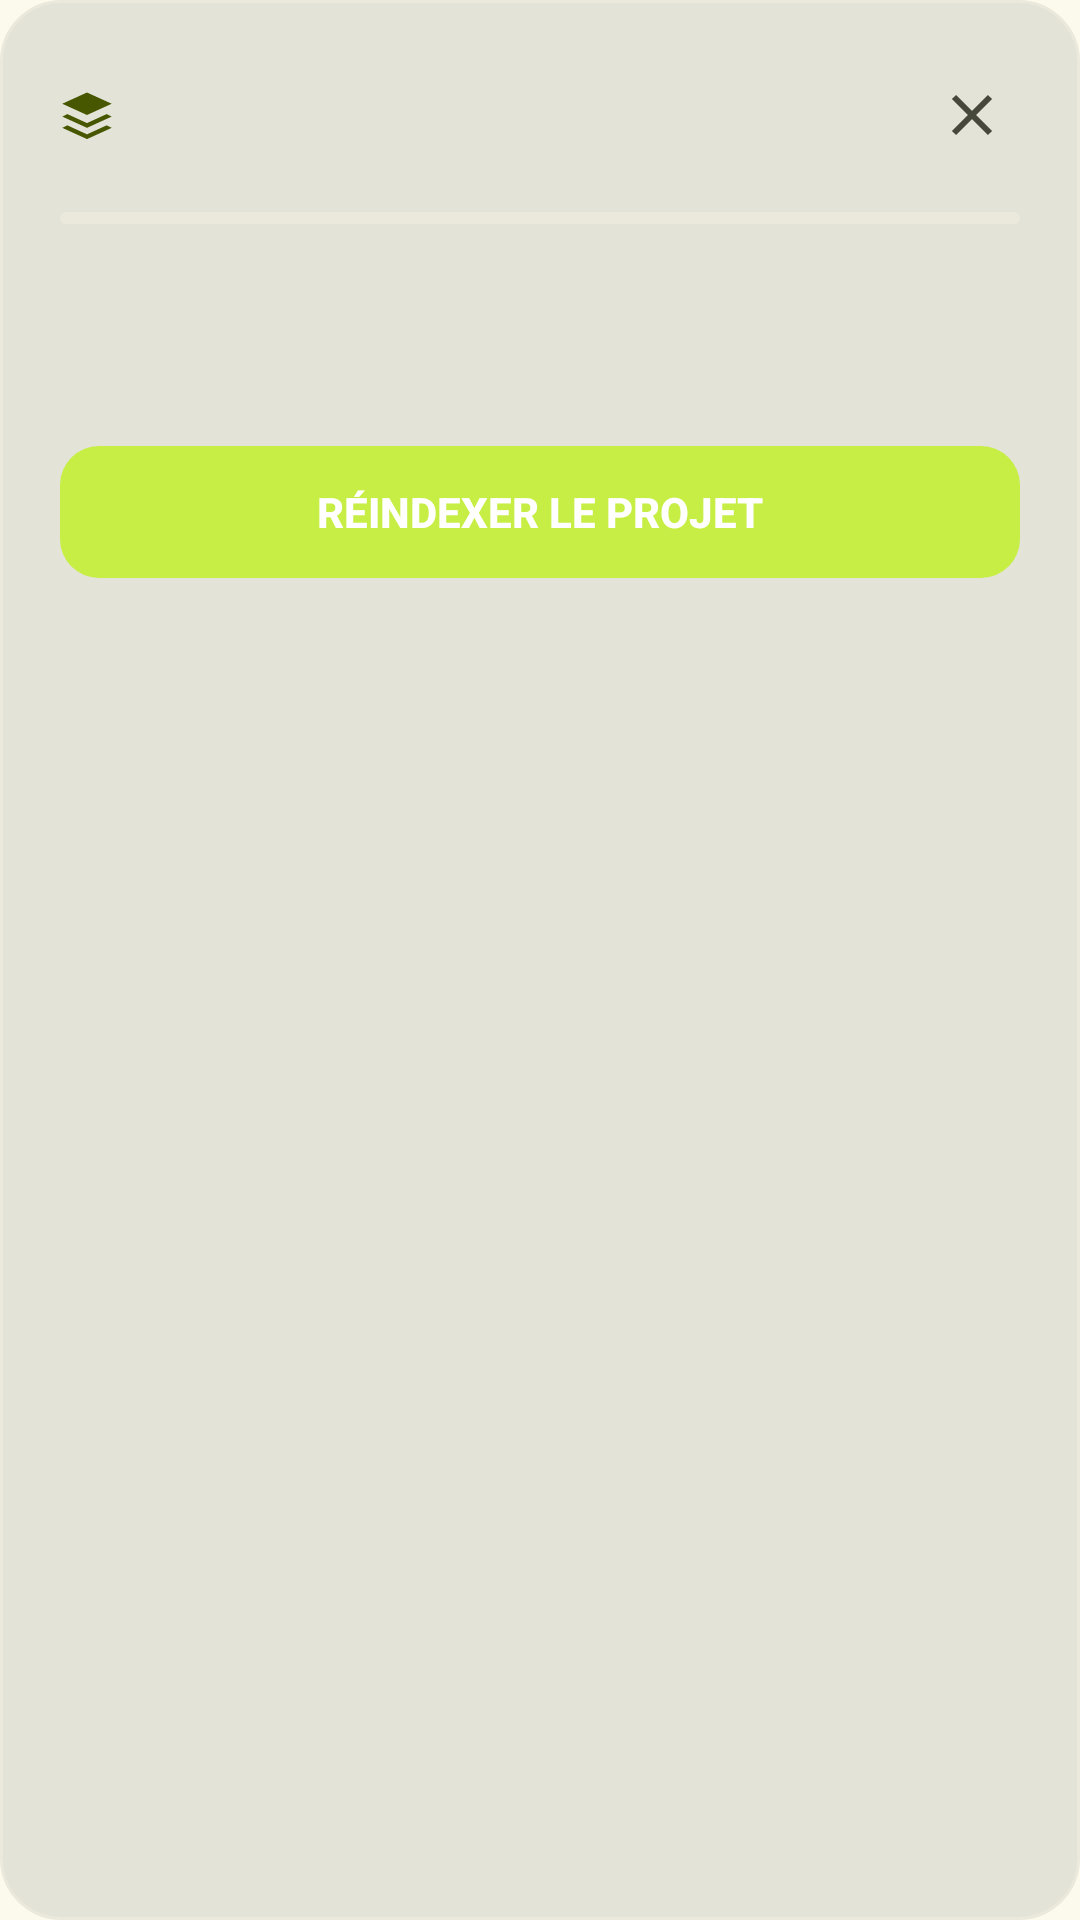

Screen size 1080*1920. Icon name, then its box in pixels as (x1,y1,x2,y2):
Fermer: (952,95,992,135)
Indexation: (62,92,112,139)
